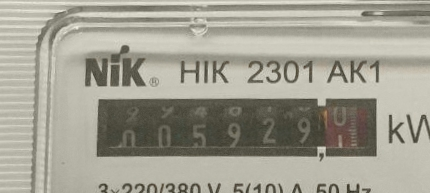0: (154, 121, 174, 149), (117, 124, 139, 147), (330, 104, 349, 127)
2: (258, 113, 278, 147)
5: (189, 120, 208, 149)
9: (222, 118, 244, 149), (294, 113, 314, 146), (121, 104, 140, 122)
screen: (88, 86, 385, 172)
